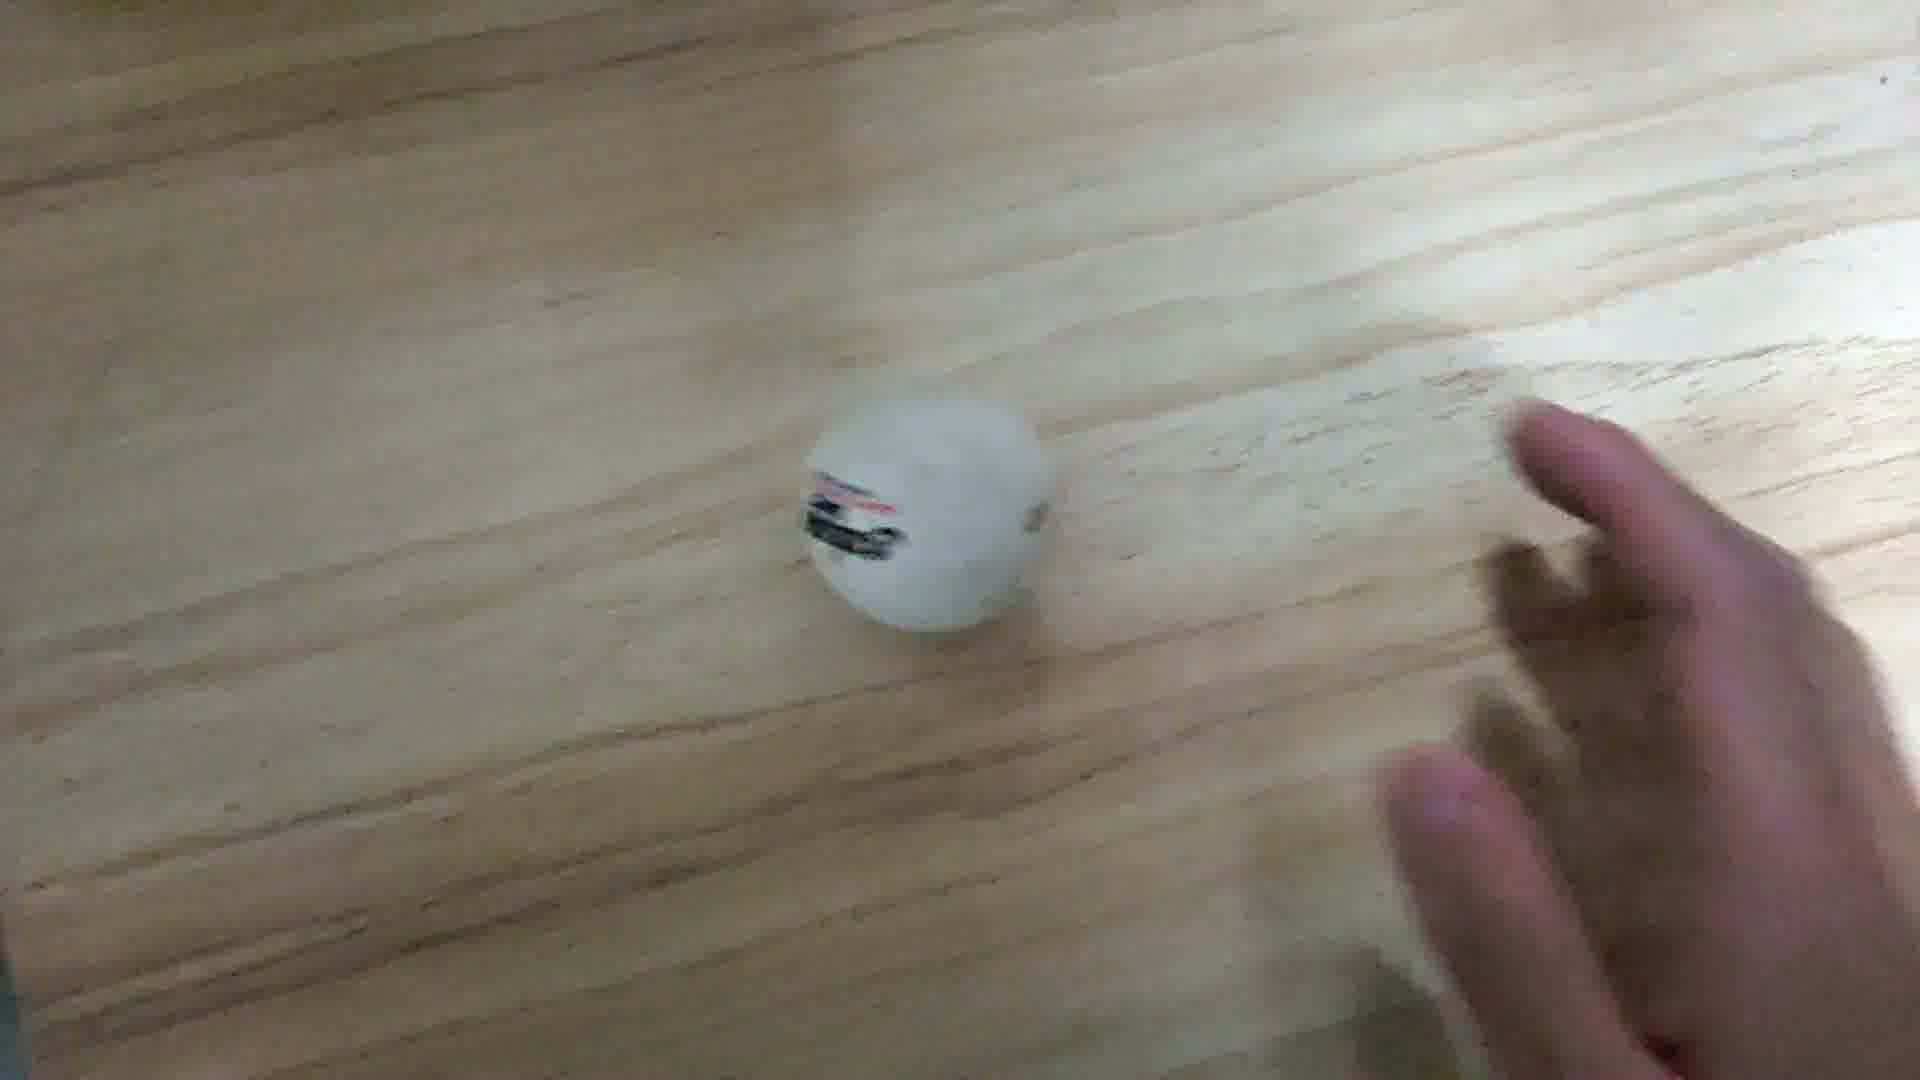Ball: (800, 386, 1059, 632)
